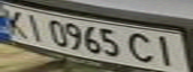0: (42, 17, 69, 48)
5: (100, 26, 127, 60)
6: (81, 24, 103, 55)
9: (60, 20, 84, 52)
C: (124, 29, 160, 64)
I: (148, 33, 184, 67), (21, 11, 48, 43)
K: (0, 7, 30, 38)
